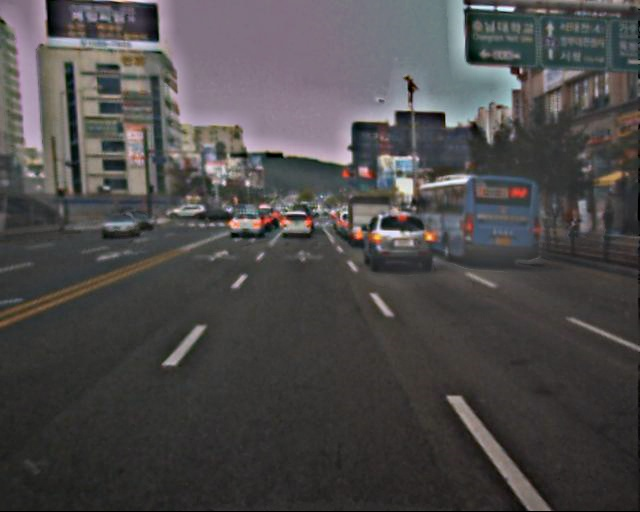person: (598, 205, 616, 249), (563, 207, 579, 235)
